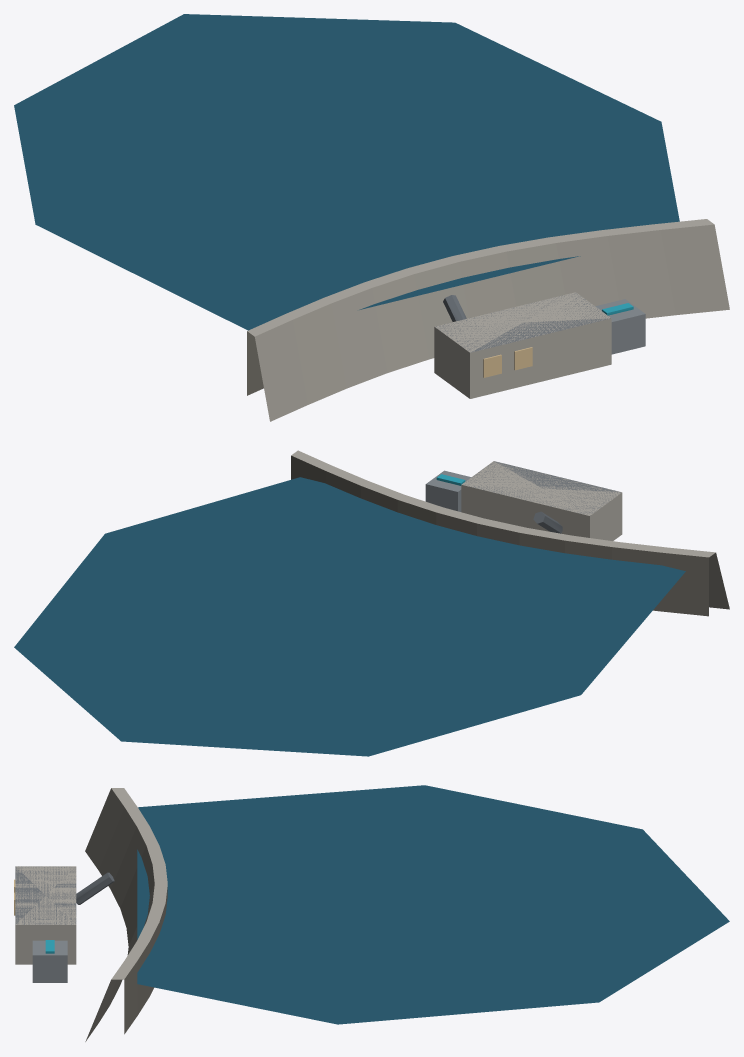
Rendered from plant_hydro_l1.fbx.
3 renders of one model, top to bottom at view 1: azimuth 30°, elevation 25°; view 2: azimuth 150°, elevation 25°; view 3: azimuth 270°, elevation 25°, orthographic. The views are drawn at different scales.
Visible parts, largest first — view 1: plant_hydro_l1; view 2: plant_hydro_l1; view 3: plant_hydro_l1.
Part boxes in pixels (x1,y1,x2,y2): plant_hydro_l1: (14, 14, 729, 421); plant_hydro_l1: (14, 450, 729, 756); plant_hydro_l1: (14, 785, 729, 1041).
Bounding box in the file's own units: 130 × 16 × 164.
